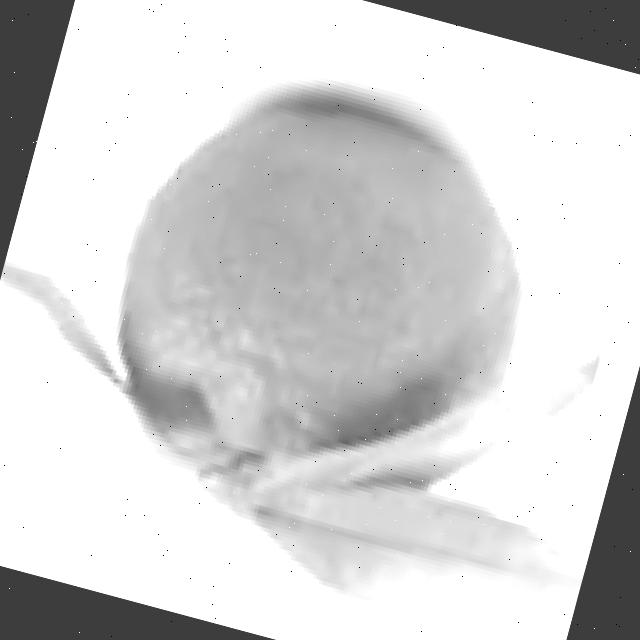orange: (62, 59, 564, 582)
